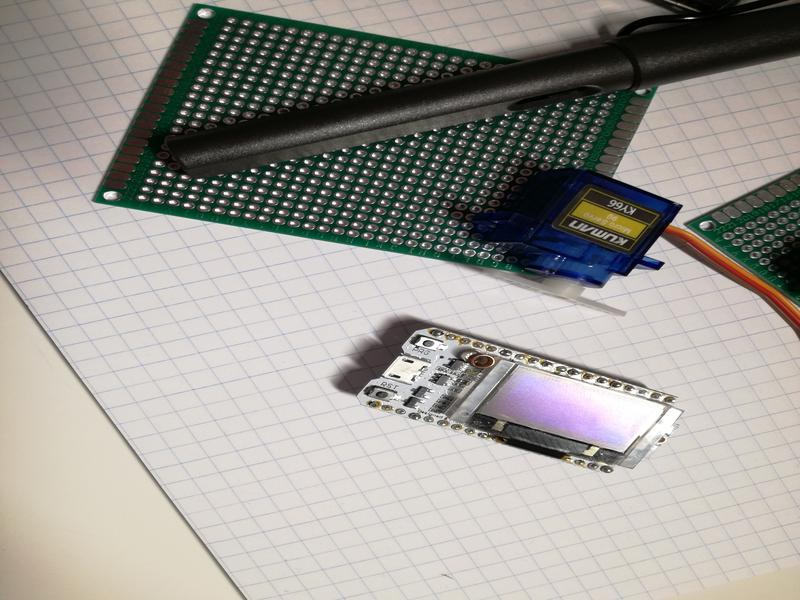Heltec_ESP32_Lora: (351, 321, 686, 485)
